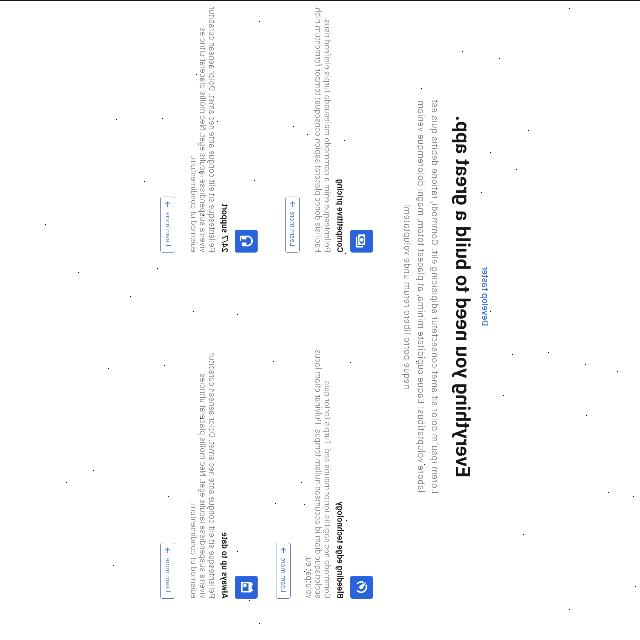QLabel: (453, 114, 473, 478), (304, 347, 332, 599), (190, 351, 218, 599), (190, 5, 218, 253), (313, 4, 333, 252), (431, 96, 442, 494), (417, 98, 428, 494), (403, 200, 411, 392), (336, 501, 346, 599), (336, 176, 346, 252), (221, 530, 229, 600), (482, 265, 488, 327), (222, 201, 228, 253), (280, 557, 288, 593), (164, 557, 172, 593), (164, 210, 172, 246), (290, 210, 296, 246)
VBtn: (159, 194, 177, 252), (284, 195, 302, 252), (275, 542, 293, 598), (159, 542, 177, 598)
VIcon: (235, 574, 259, 598), (350, 228, 374, 252), (235, 228, 259, 252), (350, 574, 374, 598), (165, 546, 171, 552), (290, 200, 296, 206), (166, 201, 170, 207), (282, 548, 286, 552)
